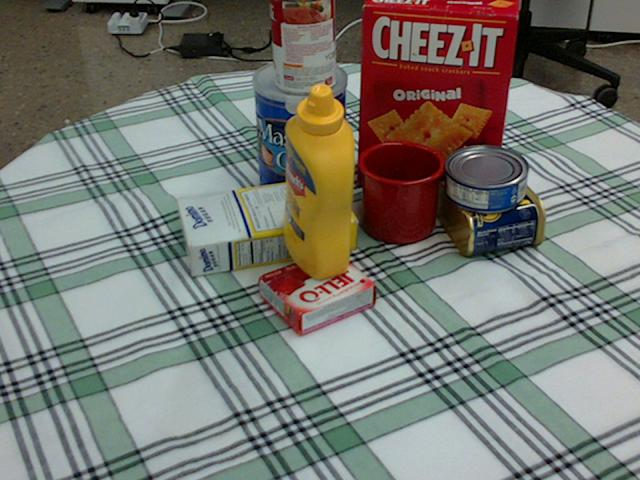cracker_box: (357, 0, 522, 194)
gelatin_box: (260, 249, 377, 335)
master_chef_can: (251, 58, 346, 210)
mug: (358, 139, 446, 243)
mustard_bottle: (283, 82, 353, 279)
potted_meat_can: (435, 161, 544, 251)
sugar_box: (173, 174, 356, 276)
tomato_soup_can: (270, 0, 336, 93)
tuna_fish_can: (444, 146, 528, 211)
